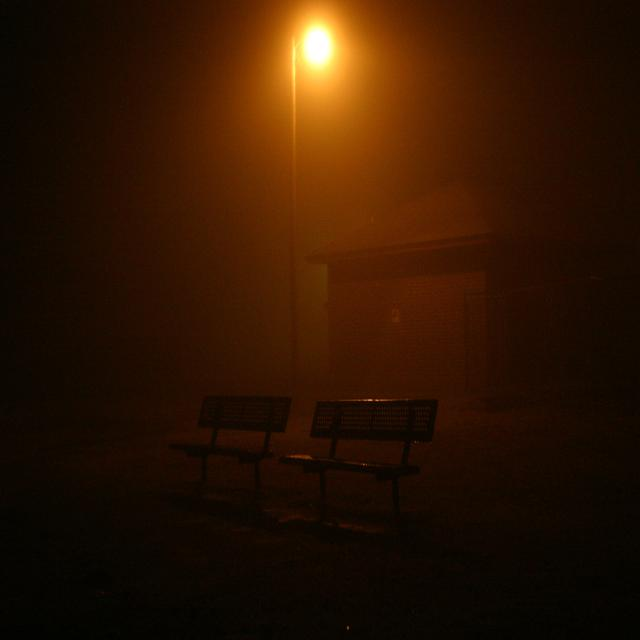chair: (165, 373, 299, 521), (301, 390, 442, 524)
